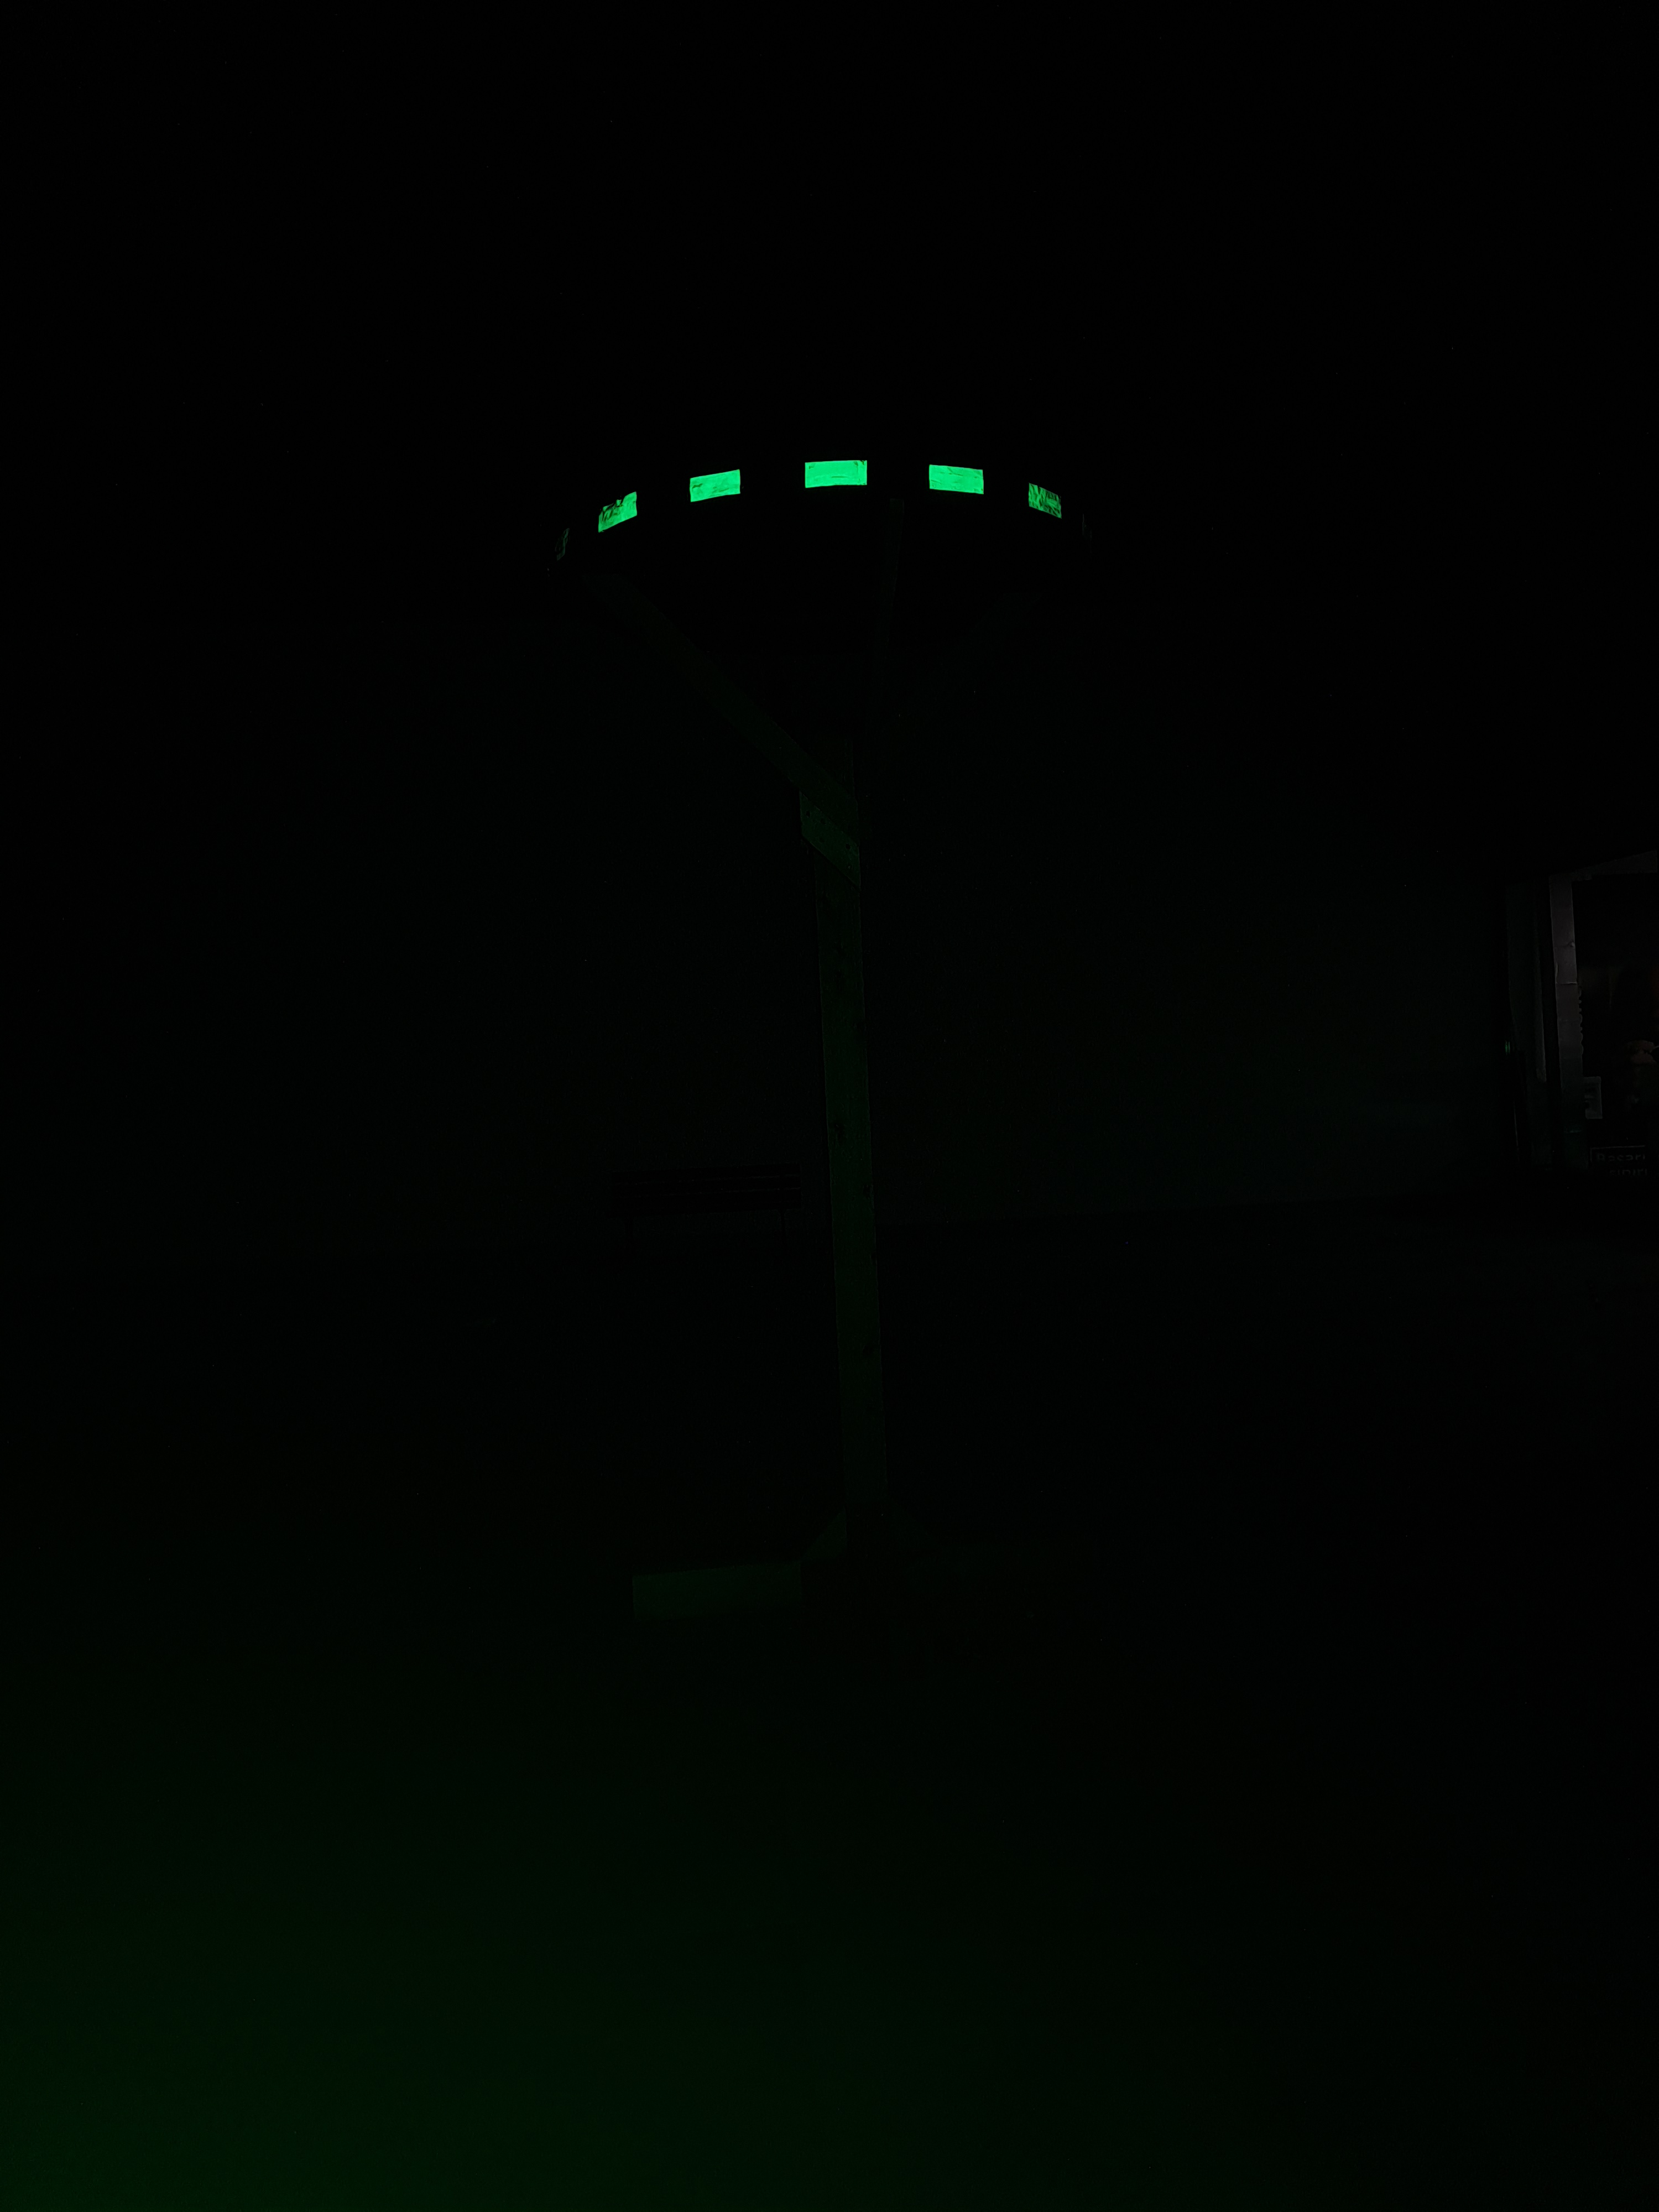hoop: (594, 451, 1063, 535)
